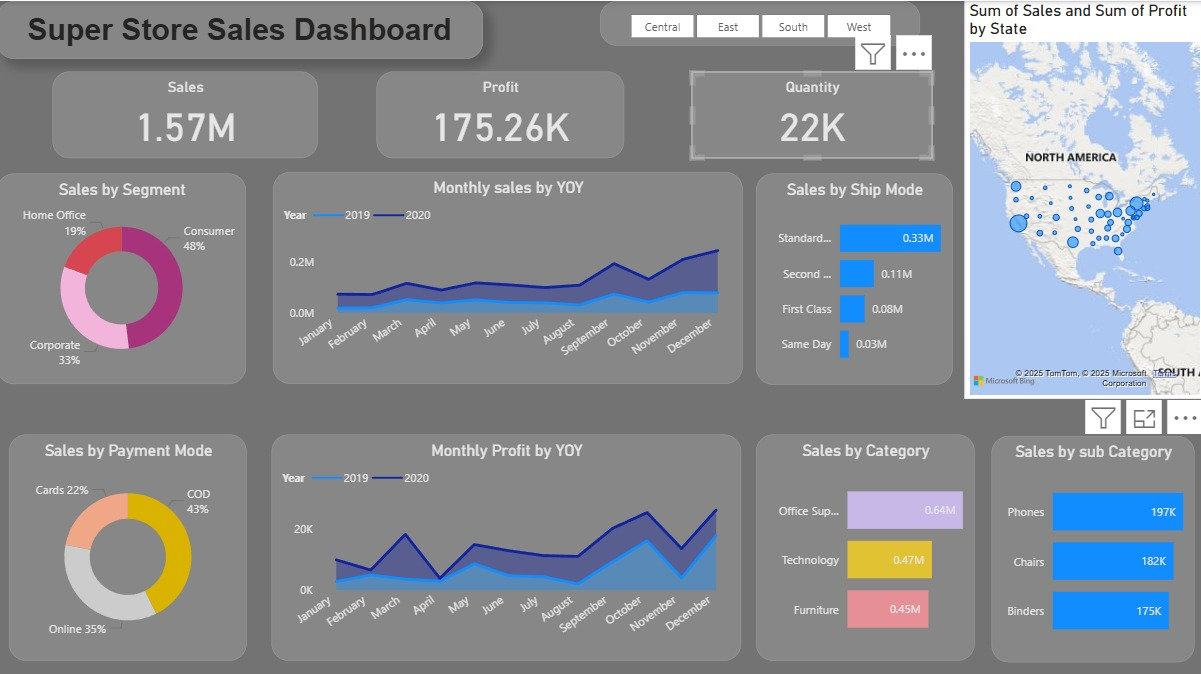

The dashboard page shown, as its layout file describes it:
{"tool":"powerbi","page":{"name":"Page 1","canvas":[1280,720],"ordinal":0},"visuals":[{"type":"barChart","title":" Sales by Category","fields":{"Category":["Sheet1.Category"],"Y":["Sum(Sheet1.Sales)"]},"box":[805.5,459.7,231.9,240.1],"z":0},{"type":"barChart","title":" Sales by sub Category","fields":{"Category":["Sheet1.Sub-Category"],"Y":["Sum(Sheet1.Sales)"]},"box":[1053.9,461.1,215.4,240.1],"z":1000},{"type":"barChart","title":" Sales by Ship Mode","fields":{"Category":["Sheet1.Ship Mode"],"Y":["Sum(Sheet1.Sales)"]},"box":[805.5,182.5,208.6,223.7],"z":2000},{"type":"stackedAreaChart","title":"Monthly sales by YOY","fields":{"Category":["Sheet1.Order Date.Variation.Date Hierarchy.Month"],"Y":["Sum(Sheet1.Sales)"],"Series":["Sheet1.Order Date.Variation.Date Hierarchy.Year"]},"box":[292,181,498.3,224.4],"z":3000},{"type":"stackedAreaChart","title":"Monthly Profit by YOY","fields":{"Category":["Sheet1.Order Date.Variation.Date Hierarchy.Month"],"Series":["Sheet1.Order Date.Variation.Date Hierarchy.Year"],"Y":["Sum(Sheet1.Profit)"]},"box":[290.9,459.7,498.1,240.1],"z":4000},{"type":"map","fields":{"Category":["Sheet1.State"],"Size":["Sum(Sheet1.Sales)"]},"box":[1025.5,0,254.6,422.3],"z":5000},{"type":"donutChart","title":"Sales by Segment","fields":{"Category":["Sheet1.Segment"],"Y":["Sum(Sheet1.Sales)"]},"box":[0,182.2,264.2,223.2],"z":6000},{"type":"donutChart","title":"Sales by Payment Mode","fields":{"Category":["Sheet1.Payment Mode"],"Y":["Sum(Sheet1.Sales)"]},"box":[12.1,459.7,252.1,240.1],"z":7000},{"type":"slicer","fields":{"Values":["Sheet1.Region"]},"box":[639.4,0,339,47.1],"z":8000},{"type":"textbox","box":[0,0,515.2,61.5],"z":9000},{"type":"card","title":"Sales","fields":{"Values":["Sum(Sheet1.Sales)"]},"box":[304,74.8,162.9,92.9],"z":10000},{"type":"card","title":"Profit","fields":{"Values":["Sum(Sheet1.Profit)"]},"box":[486.2,74.8,162.9,92.9],"z":11000},{"type":"card","title":"Quantity","fields":{"Values":["Sum(Sheet1.Quantity)"]},"box":[664.7,74.8,162,92.9],"z":12000},{"type":"card","title":"Sales","box":[851.7,74.8,162.9,92.9],"z":13000}]}

Visuals, with their boxes in screenshot pixels (x1, y1, x2, y2), scaled from the page's 1280x720 canvas onto the 1201x674 screenshot:
" Sales by Category" barChart: [x1=756, y1=430, x2=973, y2=655]
" Sales by sub Category" barChart: [x1=989, y1=432, x2=1191, y2=656]
" Sales by Ship Mode" barChart: [x1=756, y1=171, x2=952, y2=380]
"Monthly sales by YOY" stackedAreaChart: [x1=274, y1=169, x2=742, y2=379]
"Monthly Profit by YOY" stackedAreaChart: [x1=273, y1=430, x2=740, y2=655]
map - Sheet1.State x Sum(Sheet1.Sales): [x1=962, y1=0, x2=1200, y2=395]
"Sales by Segment" donutChart: [x1=0, y1=171, x2=248, y2=379]
"Sales by Payment Mode" donutChart: [x1=11, y1=430, x2=248, y2=655]
slicer - Sheet1.Region: [x1=600, y1=0, x2=918, y2=44]
textbox: [x1=0, y1=0, x2=483, y2=58]
"Sales" card: [x1=285, y1=70, x2=438, y2=157]
"Profit" card: [x1=456, y1=70, x2=609, y2=157]
"Quantity" card: [x1=624, y1=70, x2=776, y2=157]
"Sales" card: [x1=799, y1=70, x2=952, y2=157]
